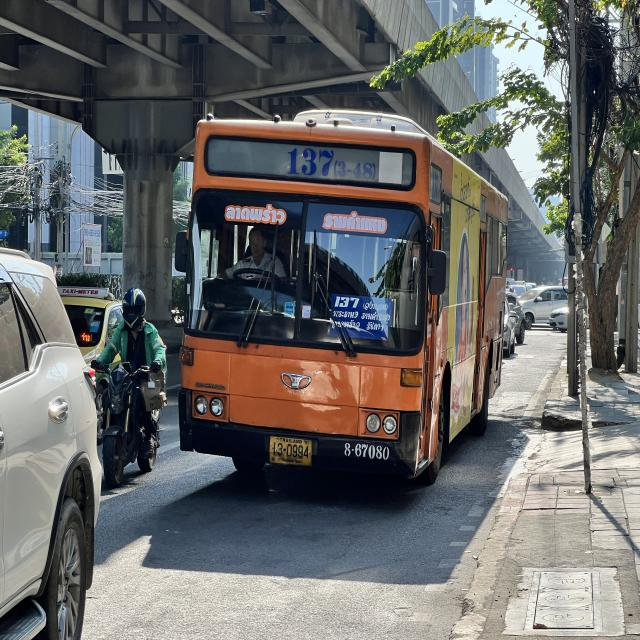BMTA-bus: (177, 110, 510, 486)
Bus-Line-Number: (286, 141, 377, 186)
Destination-Sign-Normal: (328, 294, 394, 340)
